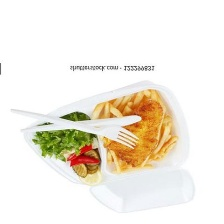foam_box: (16, 77, 200, 218)
